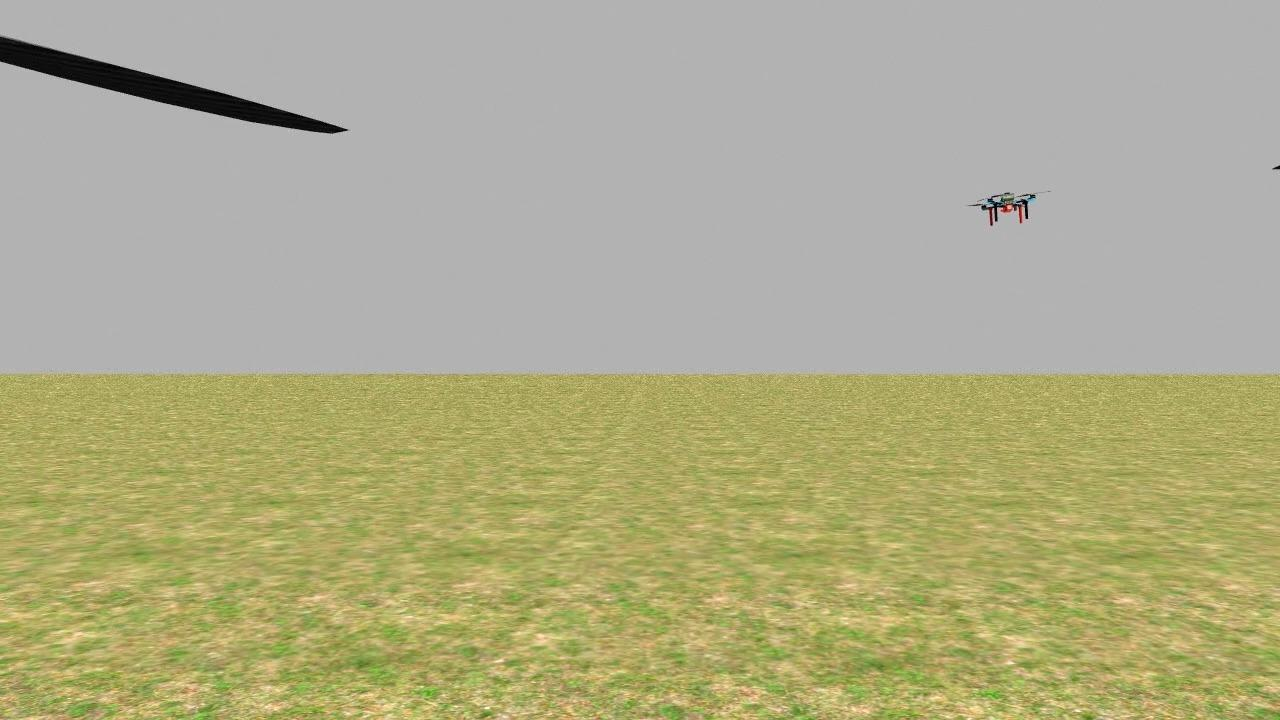UAV: (954, 175, 1058, 244)
